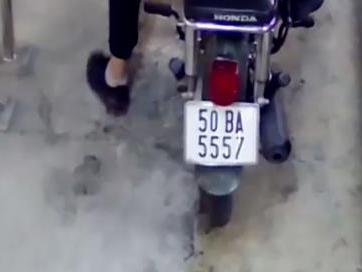num_plate: (183, 102, 261, 166)
